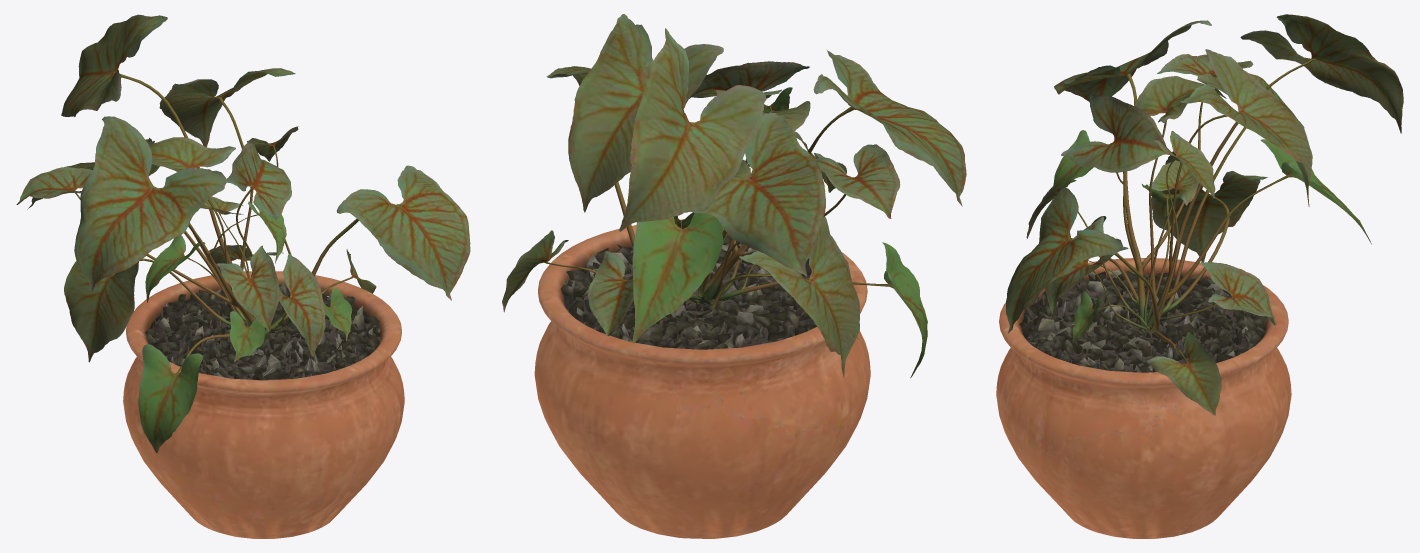
Rendered from planta.glb.
3 views of the same model, side by side, from view 1: azimuth 30°, elevation 25°; view 2: azimuth 150°, elevation 25°; view 3: azimuth 270°, elevation 25° (orthographic). The views are drawn at different scales.
Visible parts, largest first — view 1: leaves, pot, dirt; view 2: leaves, pot, dirt; view 3: leaves, pot, dirt.
Boxes of the visible parts, left/top/right/bottom form: leaves: left=16, top=14, right=470, bottom=453; pot: left=123, top=271, right=404, bottom=538; dirt: left=145, top=282, right=381, bottom=380; leaves: left=502, top=14, right=966, bottom=377; pot: left=534, top=219, right=870, bottom=538; dirt: left=560, top=235, right=816, bottom=349; leaves: left=1006, top=14, right=1403, bottom=415; pot: left=996, top=258, right=1291, bottom=538; dirt: left=1019, top=270, right=1266, bottom=372.
Bounding box in the file's own units: 0.7011 × 0.8412 × 0.6574.
Materials: 2 (2 with a texture image).
